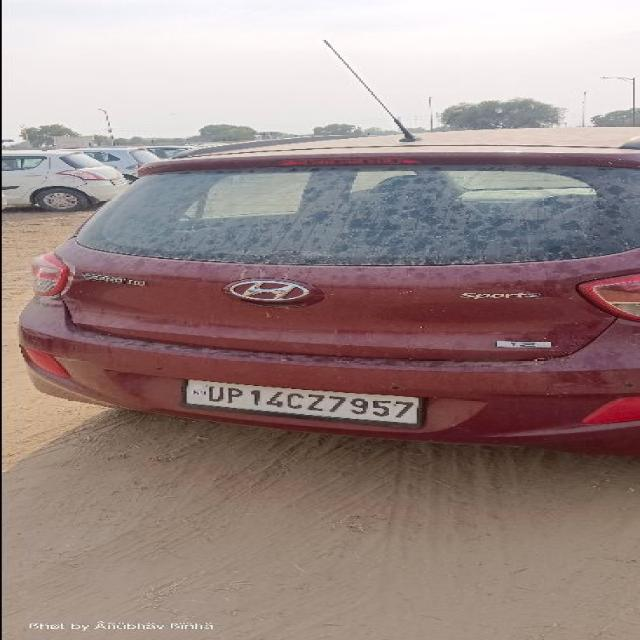license_plate: (180, 378, 426, 428)
